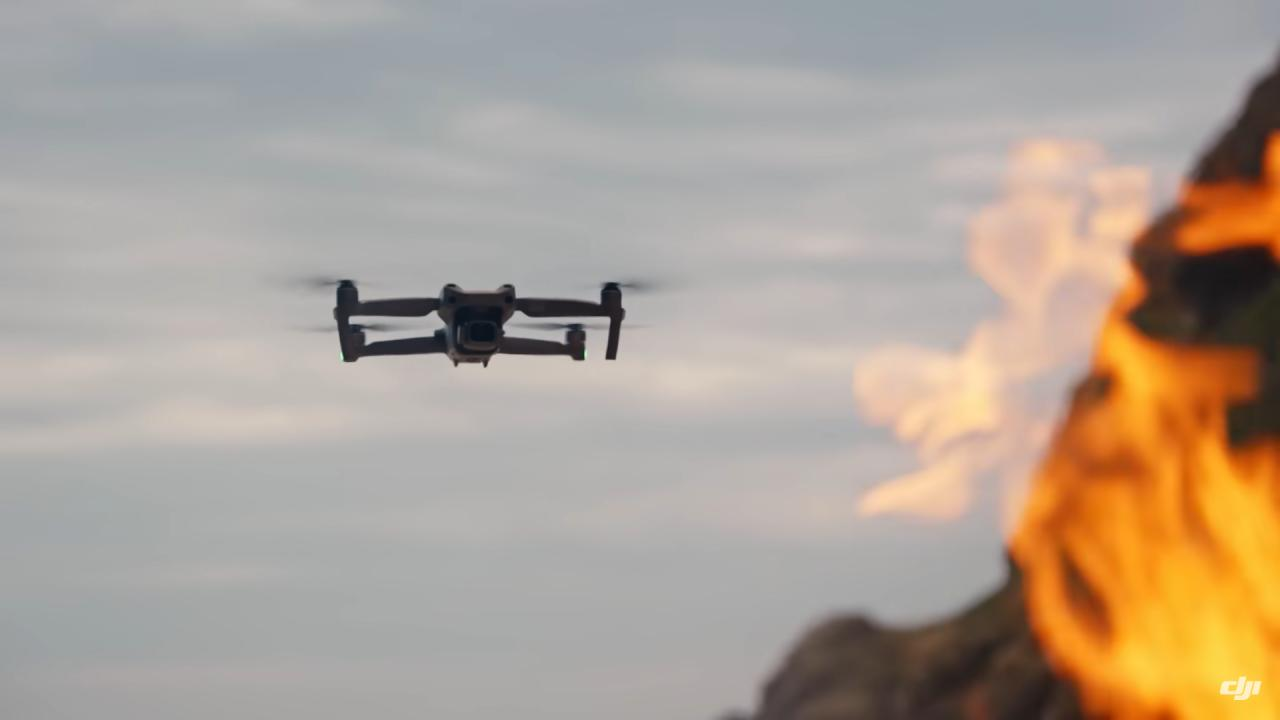Drone: (267, 252, 682, 382)
